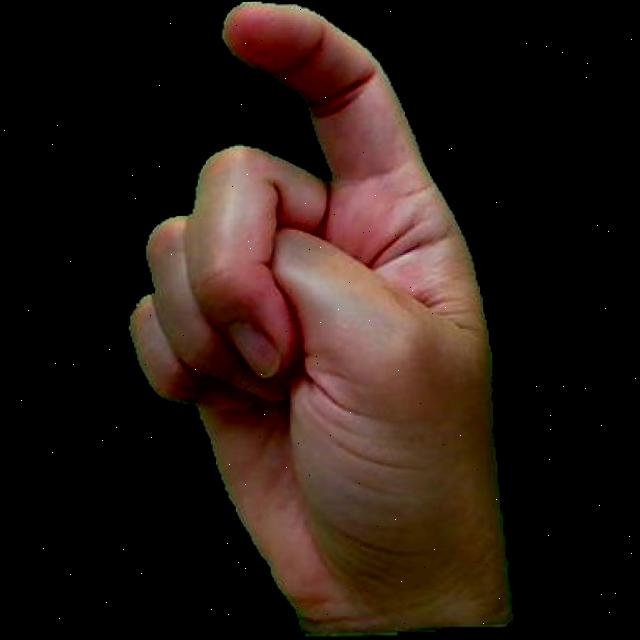x: (108, 0, 516, 640)
